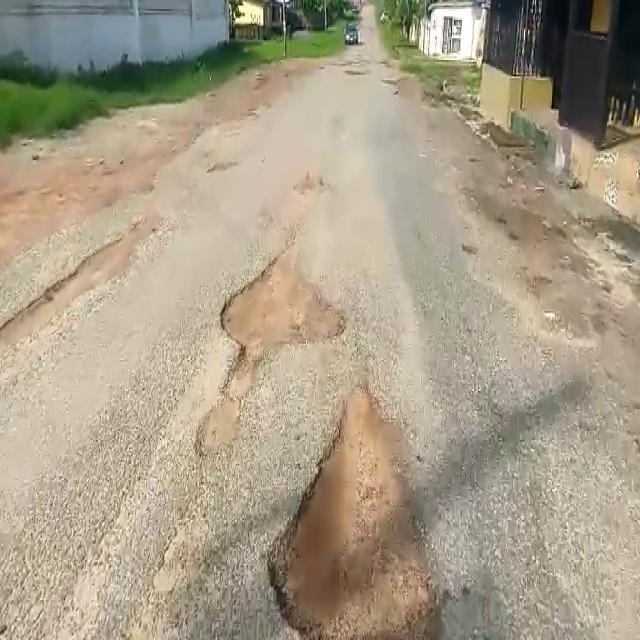pothole: (253, 388, 458, 640), (210, 253, 350, 366), (203, 156, 238, 176)
